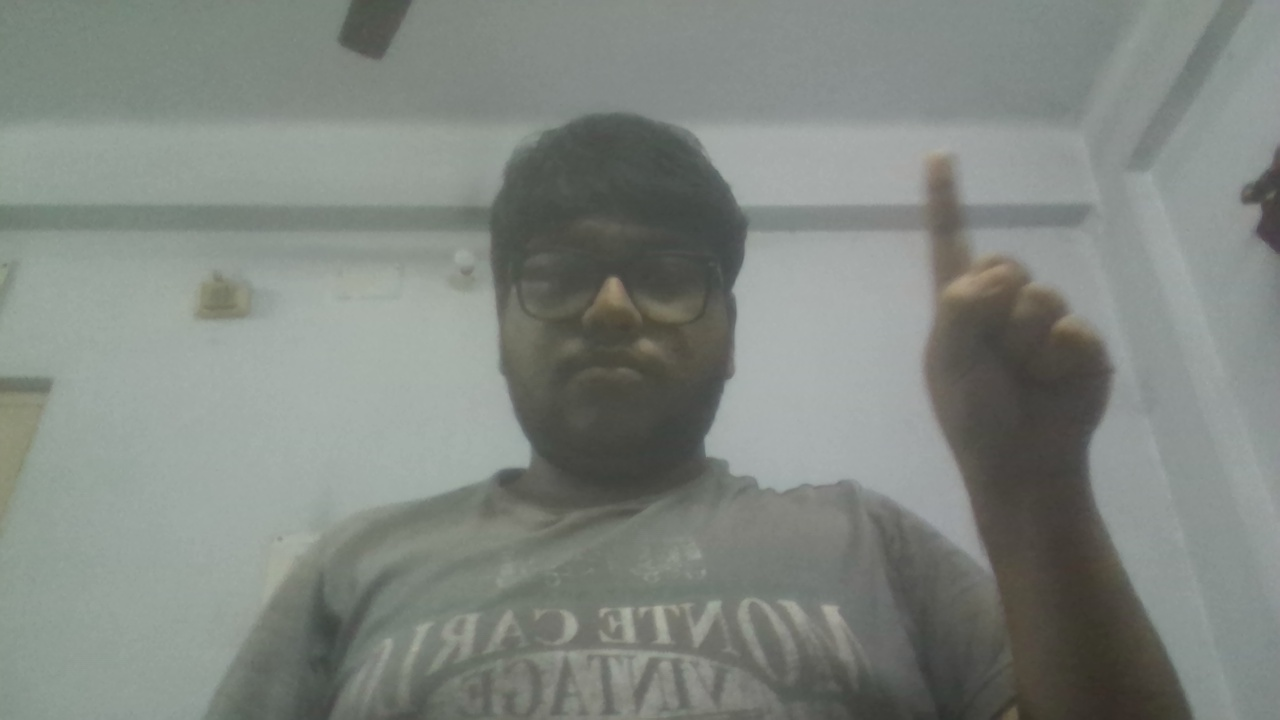Gesture1: (908, 139, 1130, 501)
